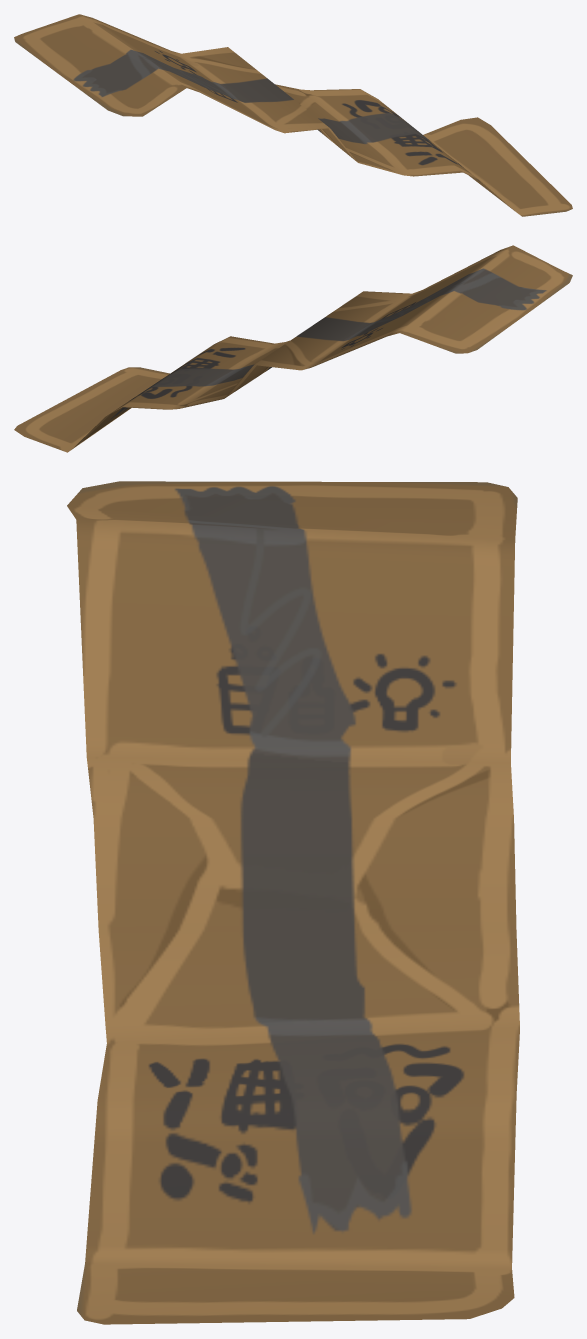
The model's file is cardboard_dark_tape.gltf.
The picture shows the model from 3 angles, top to bottom: view 1: azimuth 30°, elevation 25°; view 2: azimuth 150°, elevation 25°; view 3: azimuth 270°, elevation 25°; orthographic projection. The views are drawn at different scales.
Parts seen in each view (by area): view 1: cardboard_outside_tape_dark; view 2: cardboard_outside_tape_dark; view 3: cardboard_outside_tape_dark.
Part boxes in pixels (bbox=[...]): cardboard_outside_tape_dark: bbox=[14, 14, 572, 216]; cardboard_outside_tape_dark: bbox=[14, 245, 572, 452]; cardboard_outside_tape_dark: bbox=[67, 481, 519, 1324].
Bounding box in the file's own units: 1.88 × 0.8272 × 0.7937.
Materials: 1 (1 with a texture image).
